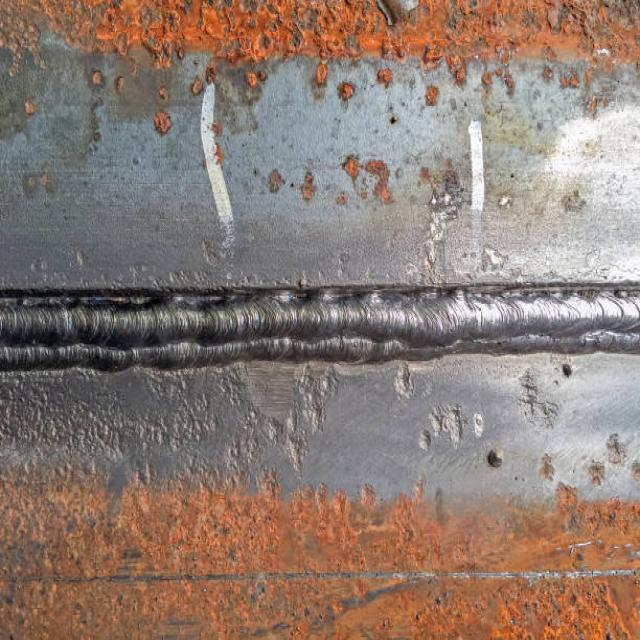Good Weld: (3, 283, 637, 372)
